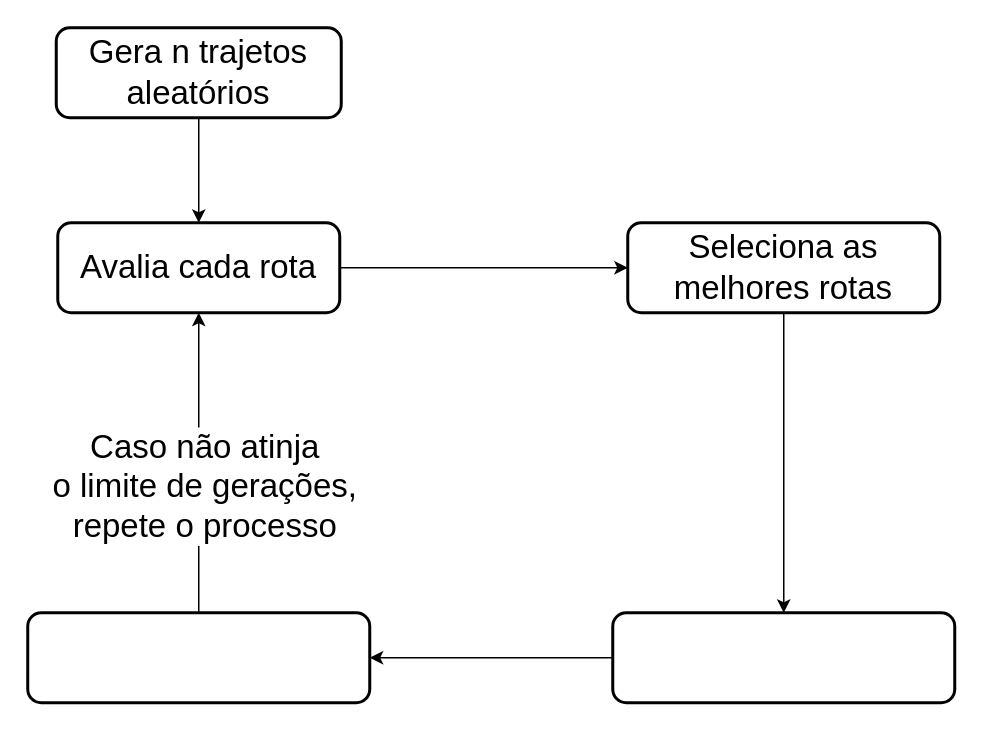
This 981x729 diagram has some shape labels left out. The shapes that lost their labels are listed below. From the top down, each one's centre as x and y in pixels, then its label:
At pixel 198 657: "Realiza pequenas alterações nas rotas".
At pixel 783 657: "Recombina as rotas selecionadas".
